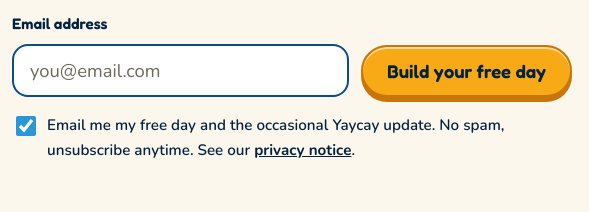
Test: SignupForm › posts the lead and shows success on a valid submit
This screenshot has width=589, height=212.
Step 1. Type "parent@example.com" into the field labelled "Email address" → (181, 71), box [12,44,349,97]
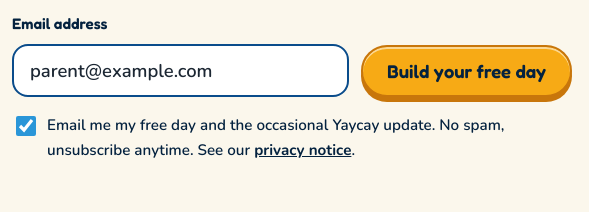
Step 2. Click the button "Build your free day" → (467, 71), box [361,45,572,97]
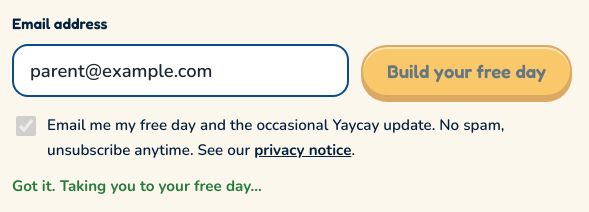
Result: the message shows "free day" at [12,176,262,196]
